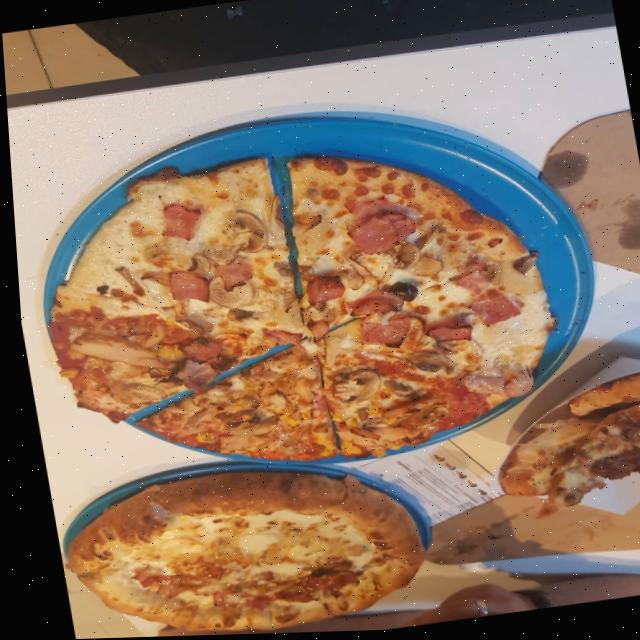black_olives: (384, 281, 418, 305)
mushrooms: (194, 207, 273, 268), (382, 228, 450, 291), (316, 367, 377, 409), (393, 343, 448, 383), (213, 412, 274, 442), (165, 306, 202, 342), (116, 378, 161, 402), (374, 375, 411, 403), (219, 304, 255, 332), (503, 254, 538, 280), (180, 252, 211, 280), (141, 365, 173, 391), (409, 405, 442, 428), (346, 405, 375, 429)
pizza: (12, 116, 569, 497), (40, 445, 432, 640), (468, 361, 640, 529)
